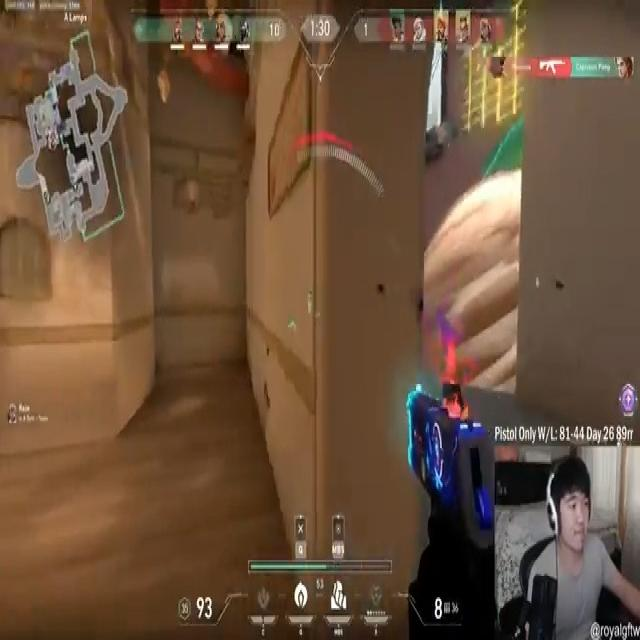smoke: (419, 172, 522, 399)
